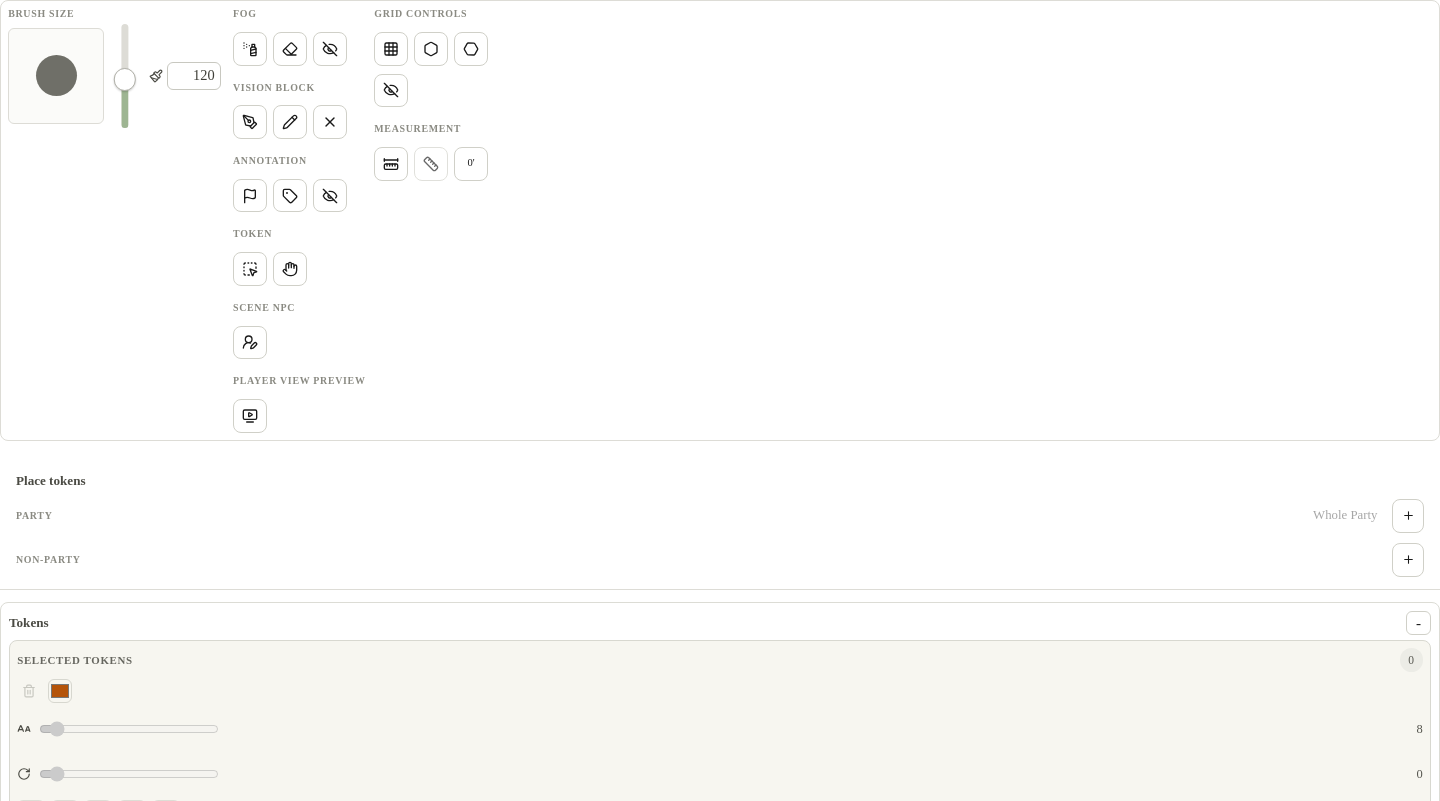
Test: placing non-party tokens › clears the chosen source
Click the button named "Show non-party token sources" at (1408, 560), box [1392,543,1424,577]
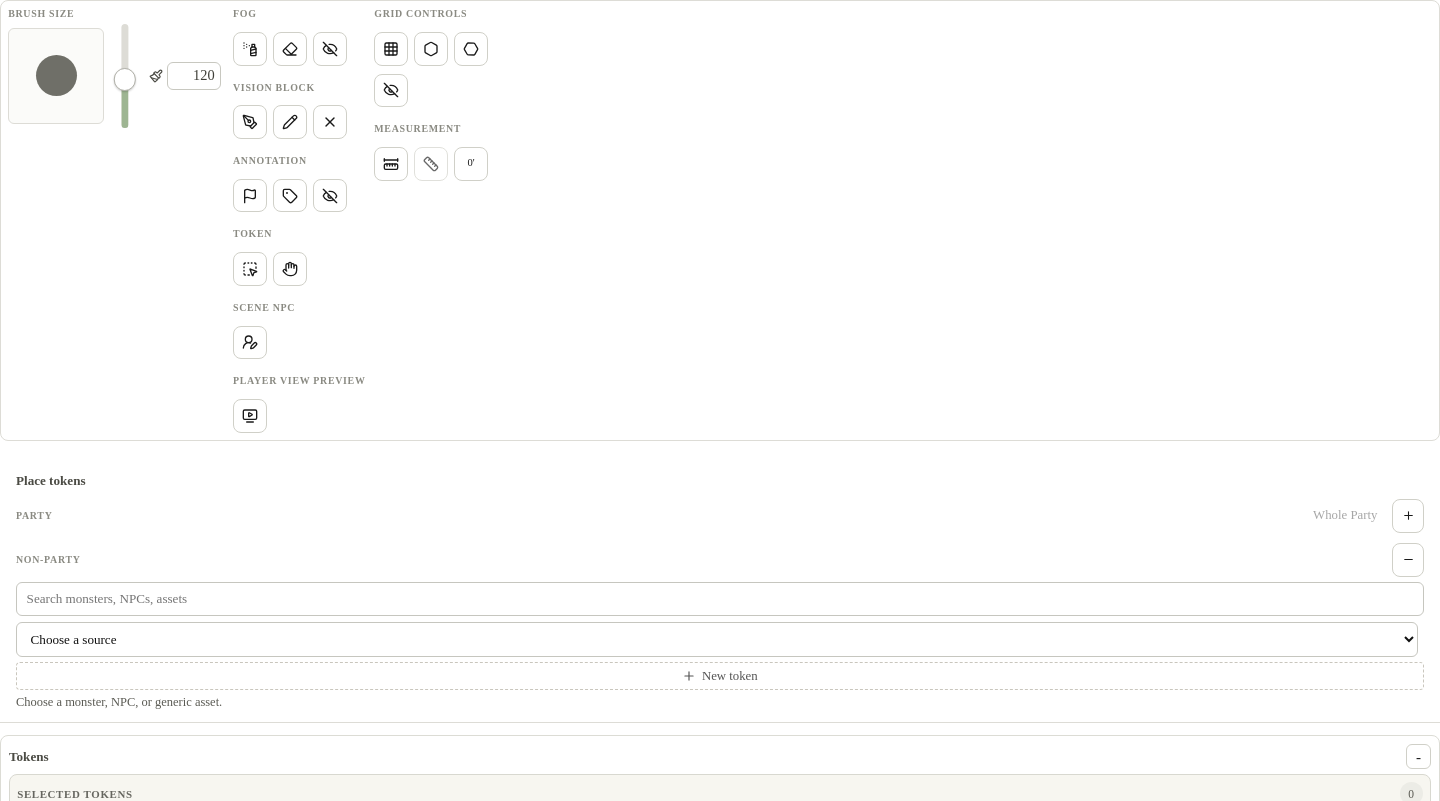
Select "Barkeep" in the dropdown named "Select non-party token source" at (717, 639), box [16,622,1418,657]
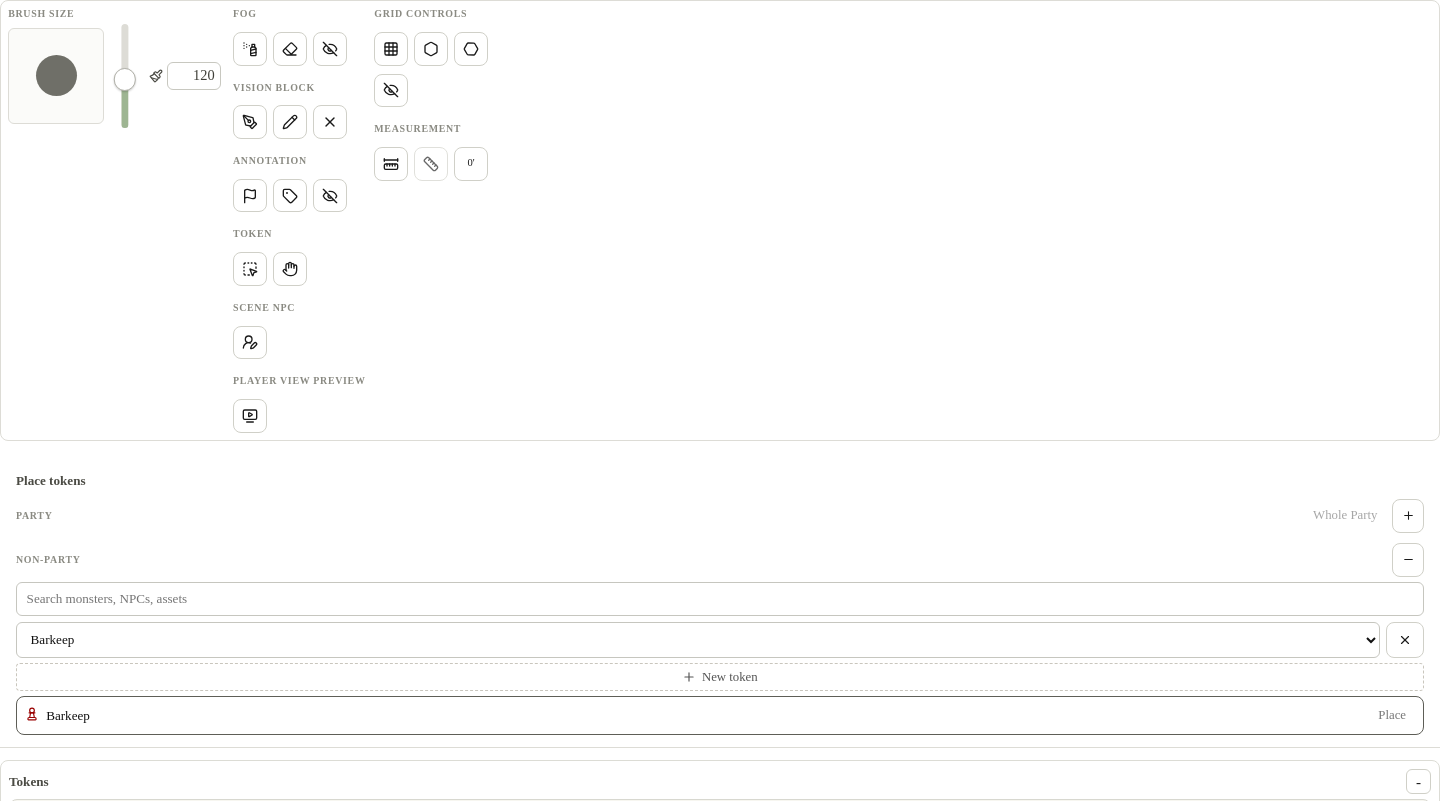
Click the button named "Clear non-party token source" at (1405, 640), box [1386,622,1424,658]
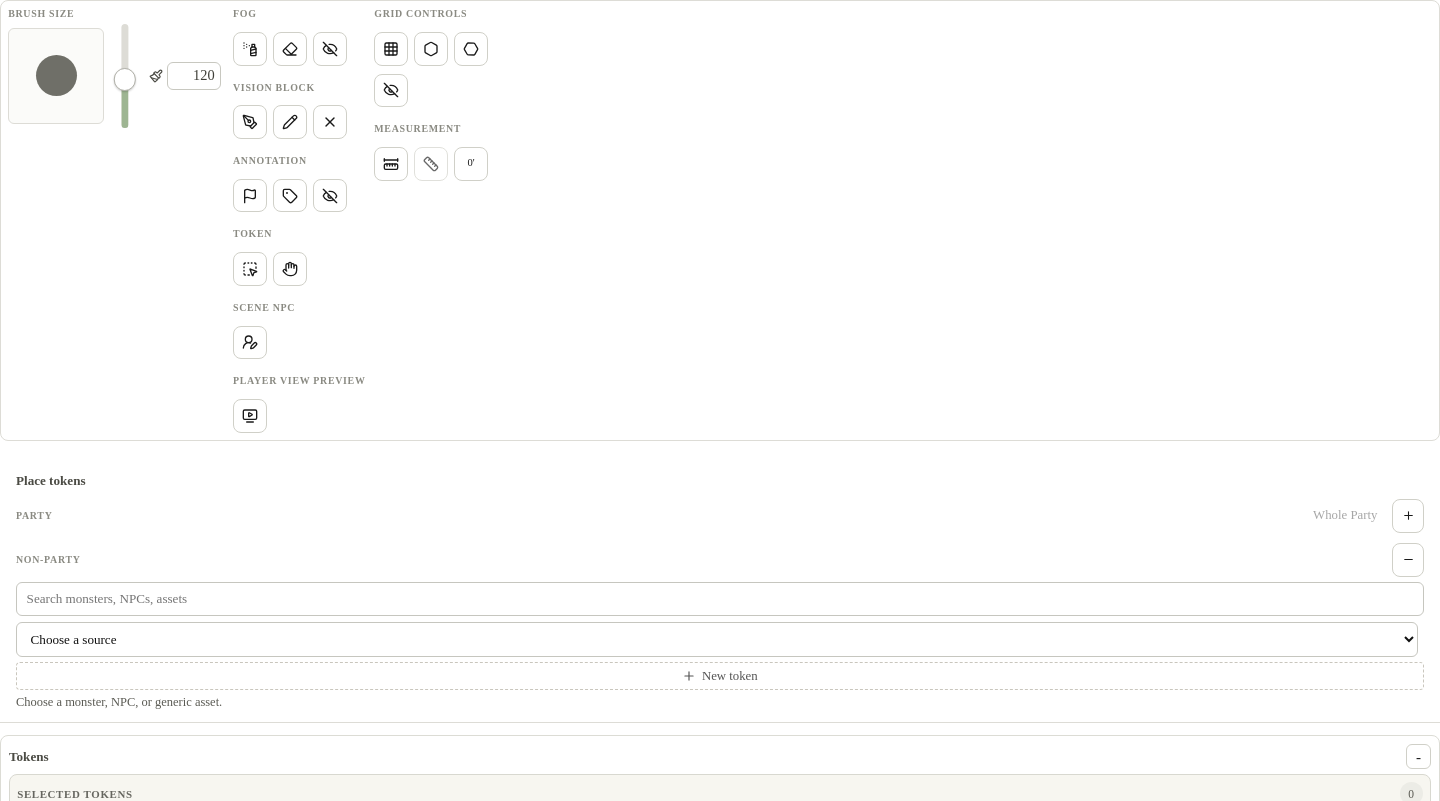
expect the text "Choose a monster, NPC, or generic asset." is shown: met, box [16,695,222,709]
